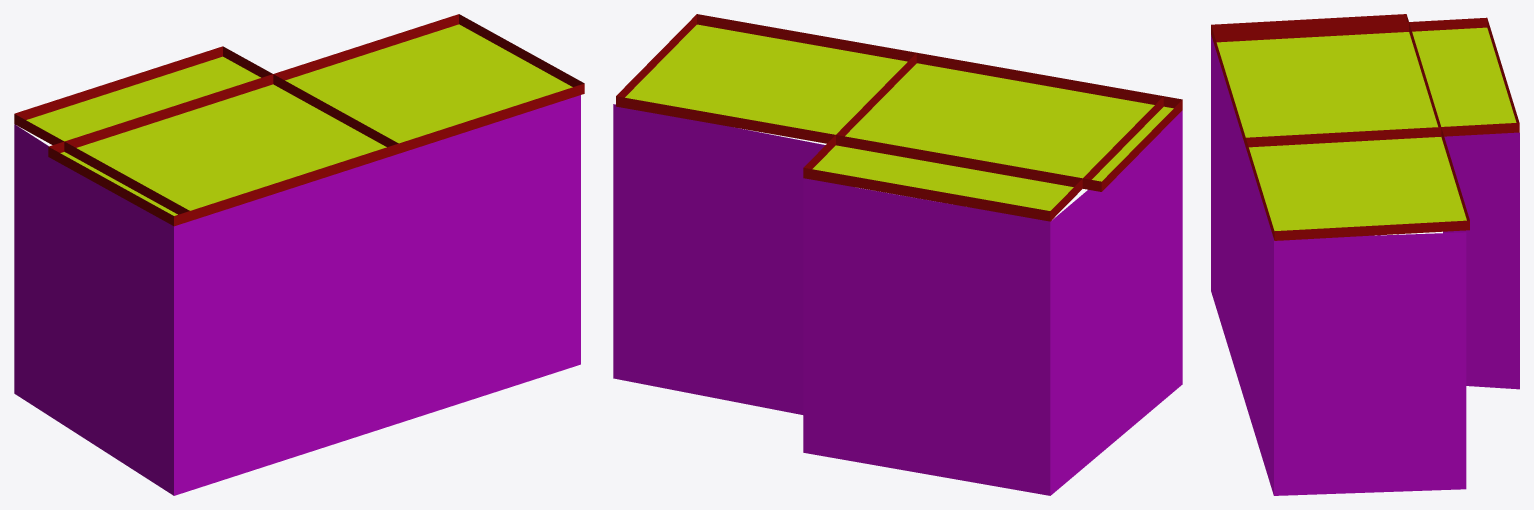
Rendered from rmc_199.glb.
3 views of the same model, side by side, from view 1: azimuth 30°, elevation 25°; view 2: azimuth 150°, elevation 25°; view 3: azimuth 270°, elevation 25° (orthographic). The views are drawn at different scales.
Parts seen in each view (by area): view 1: rmc_199; view 2: rmc_199; view 3: rmc_199.
Boxes of the visible parts, x1,y1,x2,y2 form: rmc_199: [14, 14, 584, 495]; rmc_199: [613, 14, 1182, 495]; rmc_199: [1211, 14, 1519, 495].
Size of the model in its own units: 16.62 by 9.52 by 9.99.
